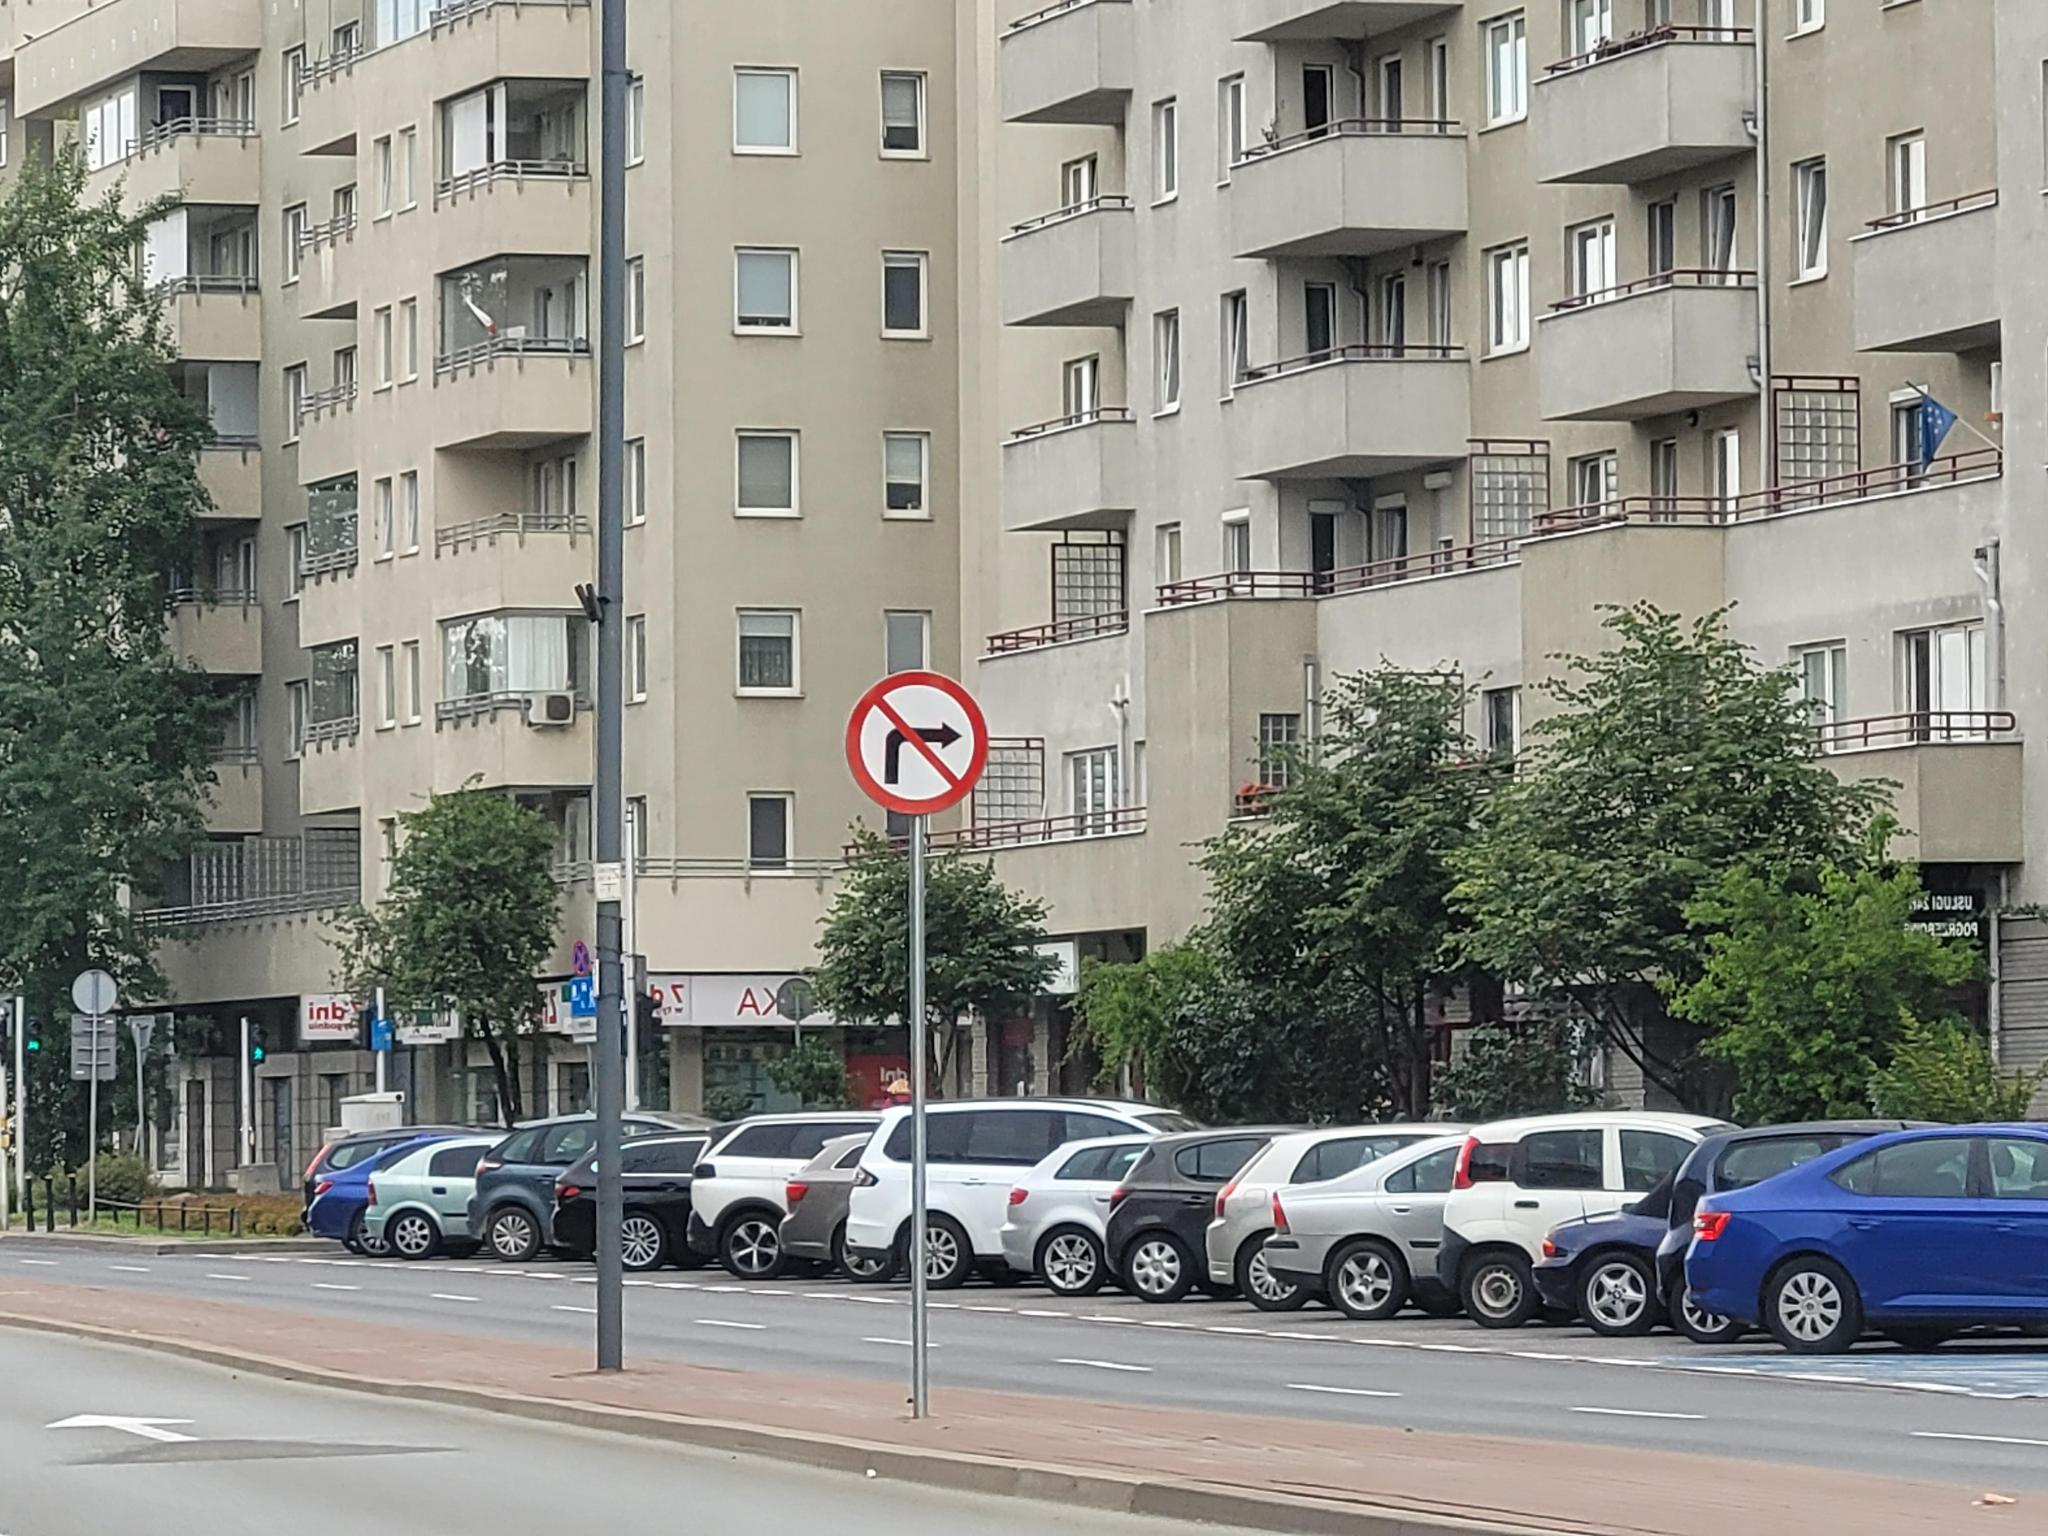other: (571, 978, 595, 1016)
prohibitory: (847, 668, 990, 816), (572, 939, 590, 976)
